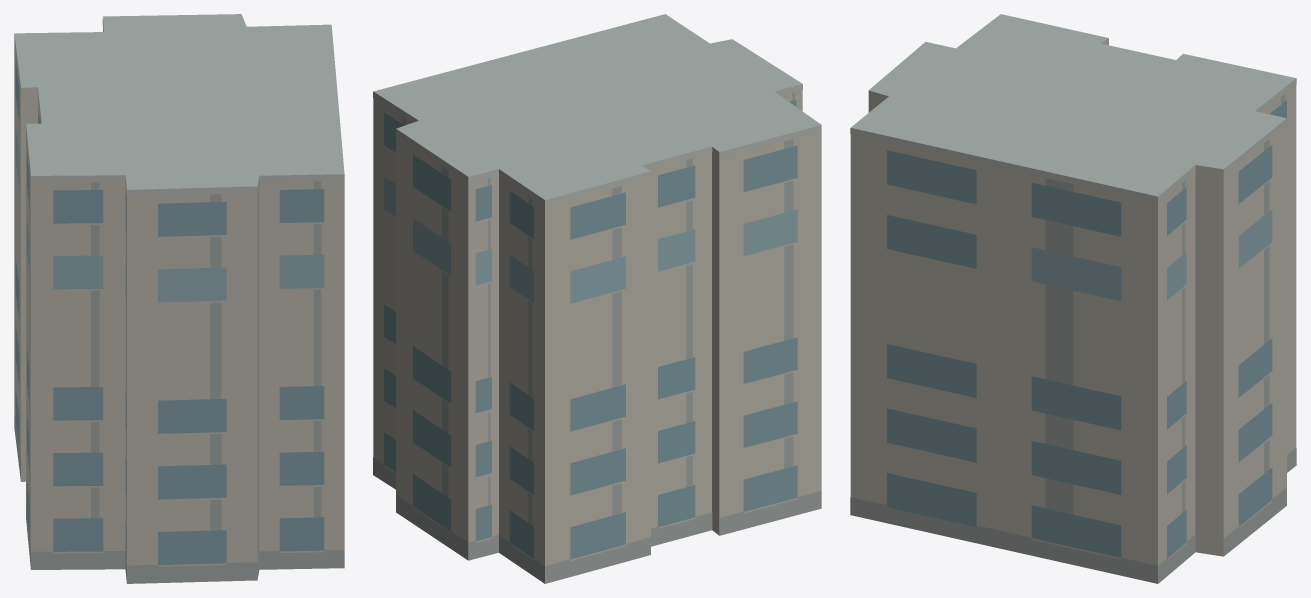
File: survey-upis-32881270.glb
The picture shows the model from 3 angles, left to right: view 1: azimuth 30°, elevation 25°; view 2: azimuth 150°, elevation 25°; view 3: azimuth 270°, elevation 25°; orthographic projection. The views are drawn at different scales.
Visible parts, largest first — view 1: survey-upis-32881270.tmp; view 2: survey-upis-32881270.tmp; view 3: survey-upis-32881270.tmp.
Part boxes in pixels (x1,y1,x2,y2): survey-upis-32881270.tmp: [14, 14, 344, 583]; survey-upis-32881270.tmp: [373, 14, 821, 583]; survey-upis-32881270.tmp: [850, 14, 1296, 583].
Size of the model in its own units: 14.47 by 14.3 by 14.93.
